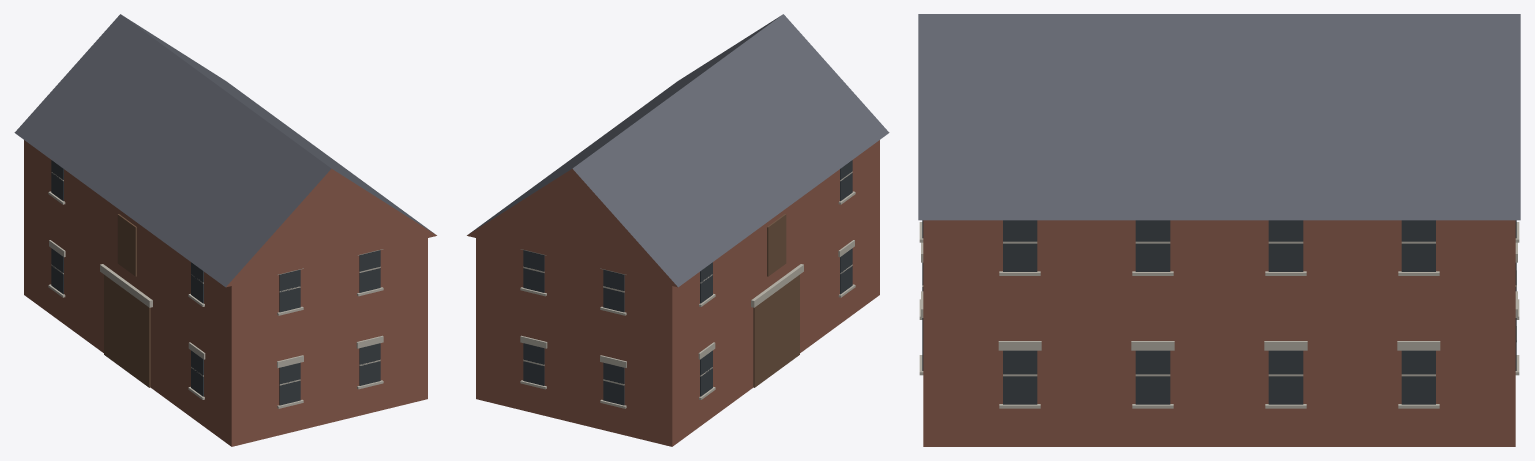
File: house_1623_indiana_coach_house__draft_1904.glb
The picture shows the model from 3 angles, left to right: view 1: azimuth 30°, elevation 25°; view 2: azimuth 150°, elevation 25°; view 3: azimuth 270°, elevation 25°; orthographic projection. The views are drawn at different scales.
Parts seen in each view (by area): view 1: house_1623_indiana_coach_house__draft_1904; view 2: house_1623_indiana_coach_house__draft_1904; view 3: house_1623_indiana_coach_house__draft_1904.
Boxes of the visible parts, <box> form: house_1623_indiana_coach_house__draft_1904: <box>14,14,436,446</box>; house_1623_indiana_coach_house__draft_1904: <box>467,14,889,446</box>; house_1623_indiana_coach_house__draft_1904: <box>918,14,1520,446</box>.
Size of the model in its own units: 8.1 by 9.35 by 13.99.
